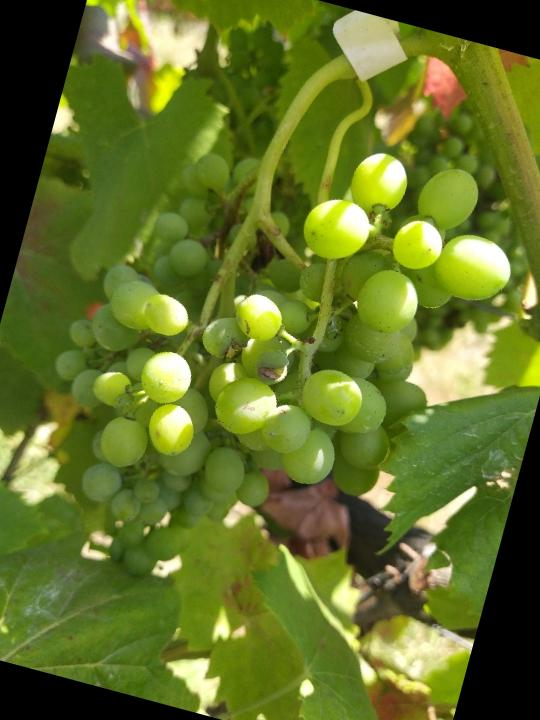grape: (6, 78, 537, 650)
